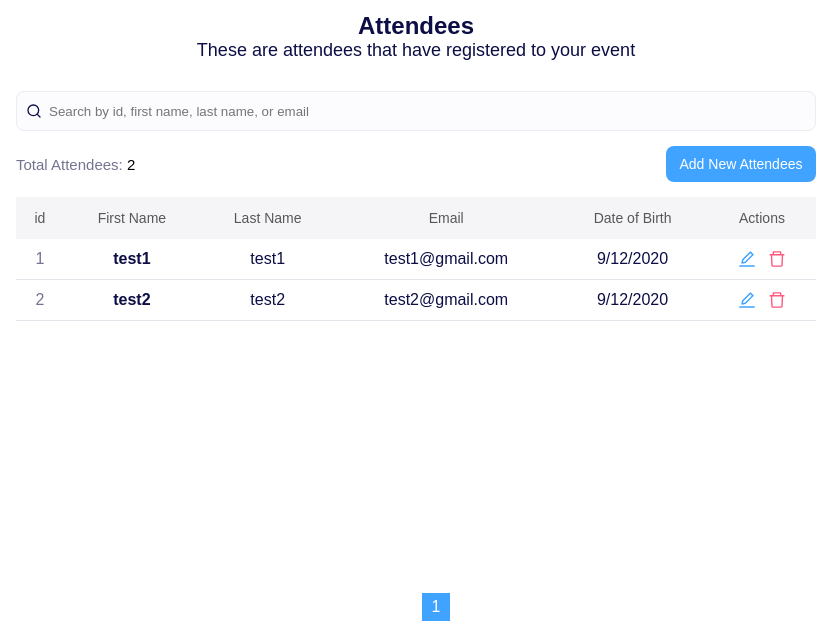
Test case: test Search › search value produce no result
This screenshot has width=833, height=638.
Type "NO_RESULT" into the search field with class "search-input" at (416, 111), box [16,91,816,131]
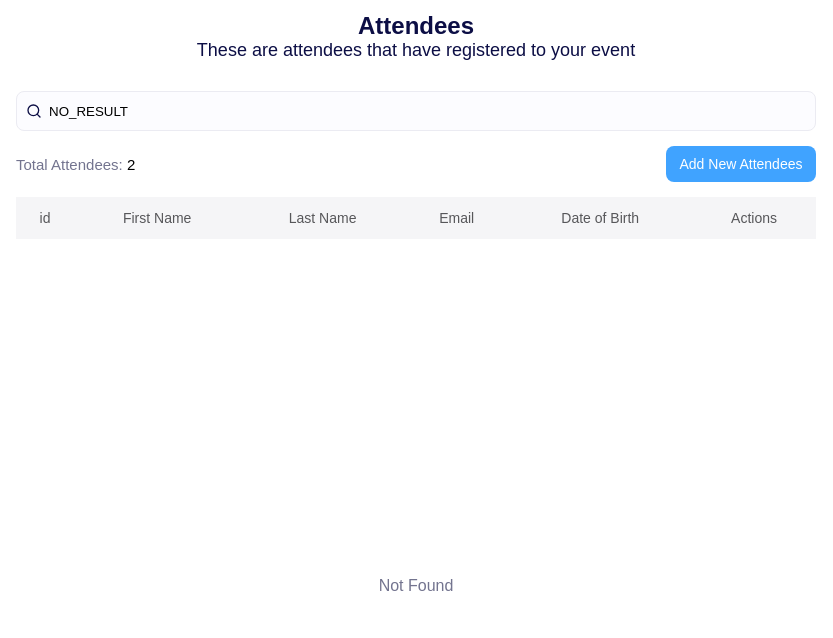
Expected: the text with class "no-attendees" reads "Not Found", [379,577,453,594]
